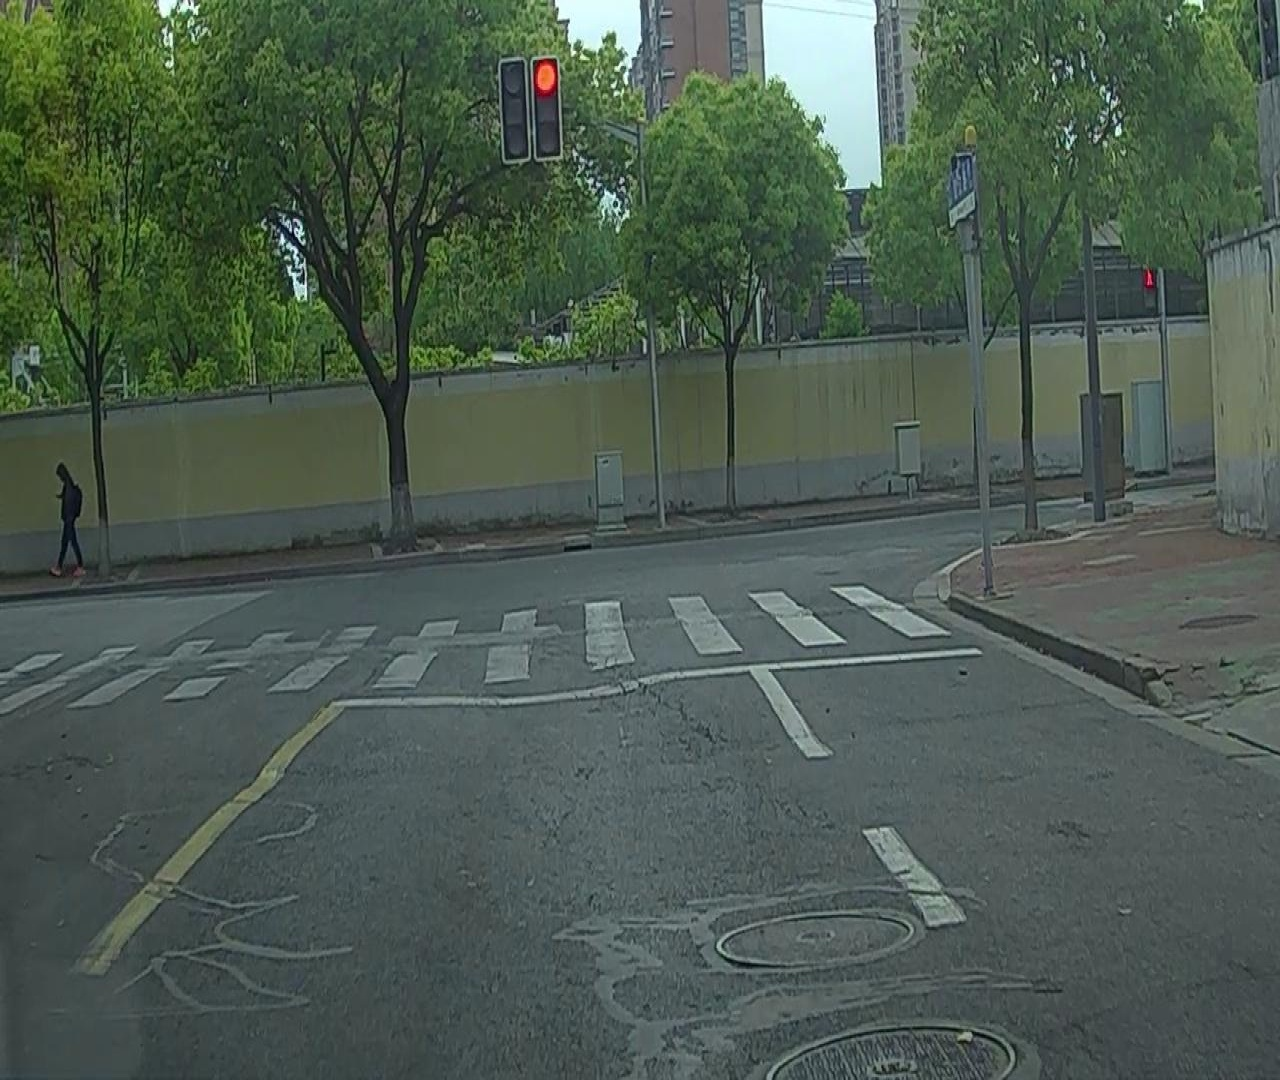yellow: (533, 60, 560, 159)
